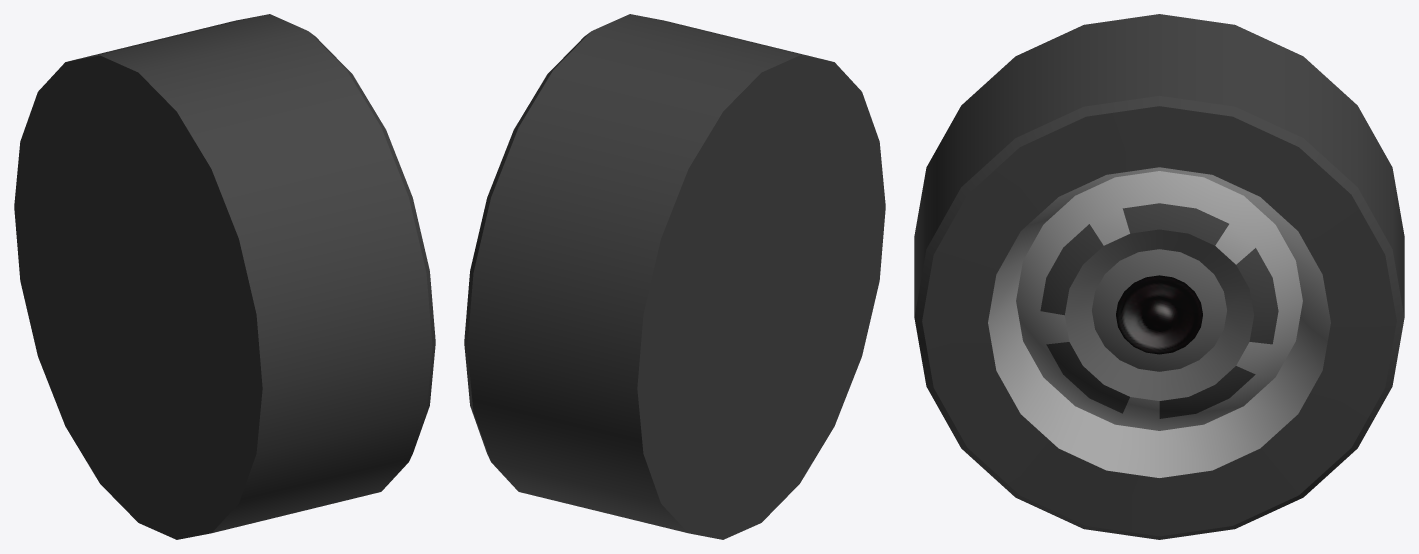
Rendered from WheelMini_01.fbx.
3 views of the same model, side by side, from view 1: azimuth 30°, elevation 25°; view 2: azimuth 150°, elevation 25°; view 3: azimuth 270°, elevation 25° (orthographic).
Parts seen in each view (by area): view 1: Wheel.LOD00; view 2: Wheel.LOD00; view 3: Wheel.LOD00.
Part boxes in pixels (bbox=[...]): Wheel.LOD00: bbox=[14, 14, 435, 539]; Wheel.LOD00: bbox=[464, 14, 885, 539]; Wheel.LOD00: bbox=[914, 14, 1404, 539].
Size of what is drawn, in the model's own units: 24.25 by 57.98 by 57.98.
